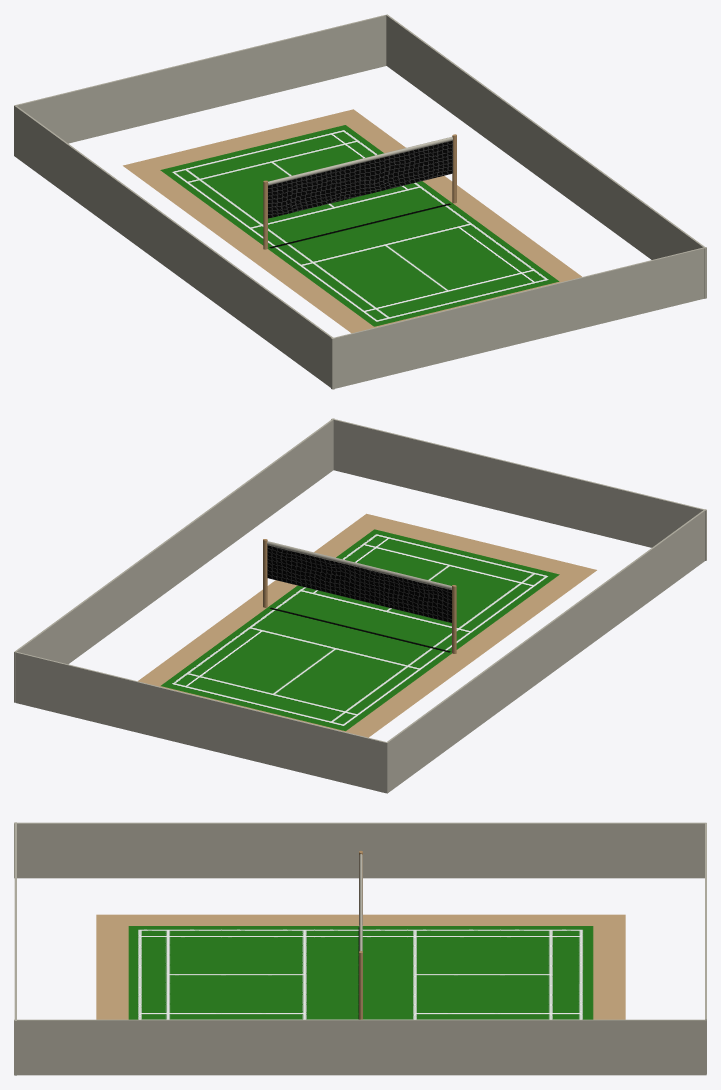
File: badminton_field.fbx
The picture shows the model from 3 angles, top to bottom: view 1: azimuth 30°, elevation 25°; view 2: azimuth 150°, elevation 25°; view 3: azimuth 270°, elevation 25°; orthographic projection. The views are drawn at different scales.
Parts seen in each view (by area): view 1: polySurface1, polySurface6, polySurface5, polySurface2, polySurface9, polySurface4, polySurface3, polySurface8; view 2: polySurface1, polySurface5, polySurface6, polySurface2, polySurface9, polySurface4, polySurface3, polySurface8; view 3: polySurface1, polySurface9, polySurface2, polySurface4, polySurface6, polySurface5.
Part boxes in pixels (left/top/right/bottom): polySurface1: left=160, top=125, right=559, bottom=326; polySurface6: left=331, top=247, right=706, bottom=389; polySurface5: left=15, top=15, right=386, bottom=143; polySurface2: left=14, top=105, right=334, bottom=389; polySurface9: left=386, top=14, right=706, bottom=298; polySurface4: left=123, top=109, right=581, bottom=333; polySurface3: left=268, top=140, right=452, bottom=218; polySurface8: left=268, top=137, right=452, bottom=185; polySurface1: left=161, top=529, right=559, bottom=731; polySurface5: left=16, top=652, right=386, bottom=793; polySurface6: left=331, top=418, right=706, bottom=560; polySurface2: left=386, top=509, right=706, bottom=793; polySurface9: left=14, top=418, right=334, bottom=702; polySurface4: left=138, top=513, right=596, bottom=737; polySurface3: left=267, top=545, right=451, bottom=622; polySurface8: left=267, top=541, right=451, bottom=589; polySurface1: left=128, top=926, right=593, bottom=1019; polySurface9: left=14, top=1019, right=706, bottom=1075; polySurface2: left=14, top=822, right=706, bottom=878; polySurface4: left=96, top=914, right=625, bottom=1019; polySurface6: left=14, top=822, right=16, bottom=1075; polySurface5: left=705, top=823, right=706, bottom=1073.
Size of the model in its own units: 2.02 by 0.3537 by 2.98.
Materials: 6 (2 with a texture image).
